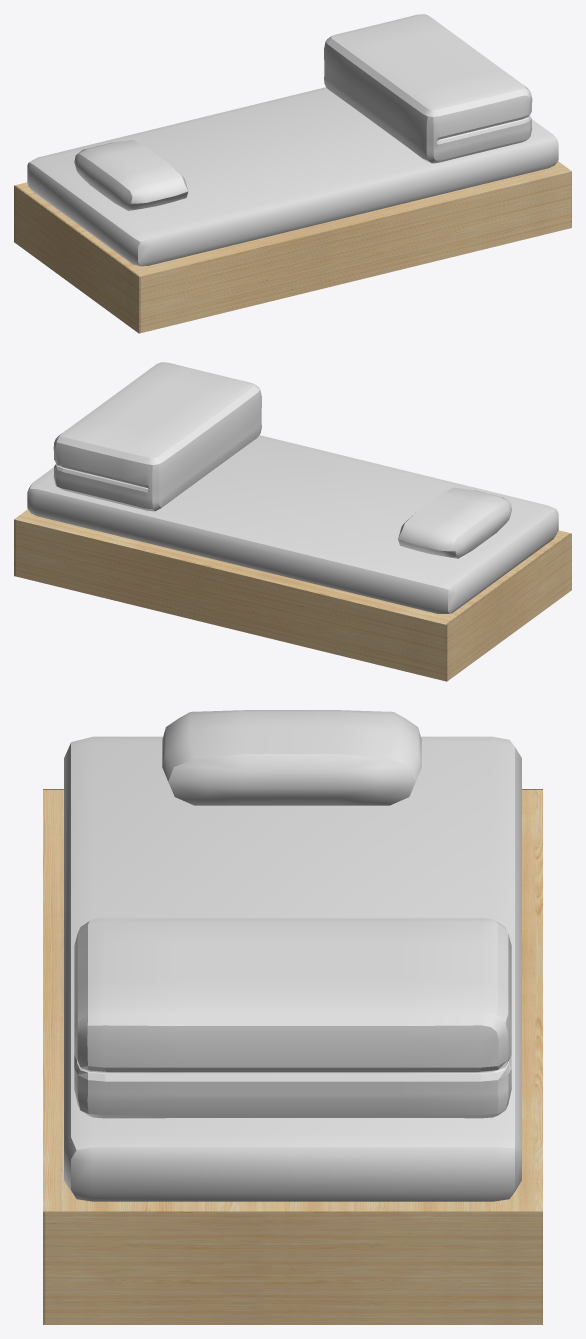
3 views of the same model, one above another, from view 1: azimuth 30°, elevation 25°; view 2: azimuth 150°, elevation 25°; view 3: azimuth 270°, elevation 25° (orthographic). The views are drawn at different scales.
Visible parts, largest first — view 1: Box013, Box012, Box015, Box016; view 2: Box013, Box012, Box015, Box016; view 3: Box013, Box015, Box012, Box016.
Part boxes in pixels (x1,y1,x2,y2): Box013: (27,87,558,266); Box012: (14,161,571,333); Box015: (324,14,532,163); Box016: (74,140,188,210); Box013: (27,435,558,613); Box012: (14,509,571,681); Box015: (53,362,261,511); Box016: (398,487,511,558); Box013: (64,736,521,1201); Box015: (74,918,511,1118); Box012: (43,789,542,1324); Box016: (162,710,421,805).
Bounding box in the file's own units: 160 × 50 × 80.
Materials: 1 (1 with a texture image).
